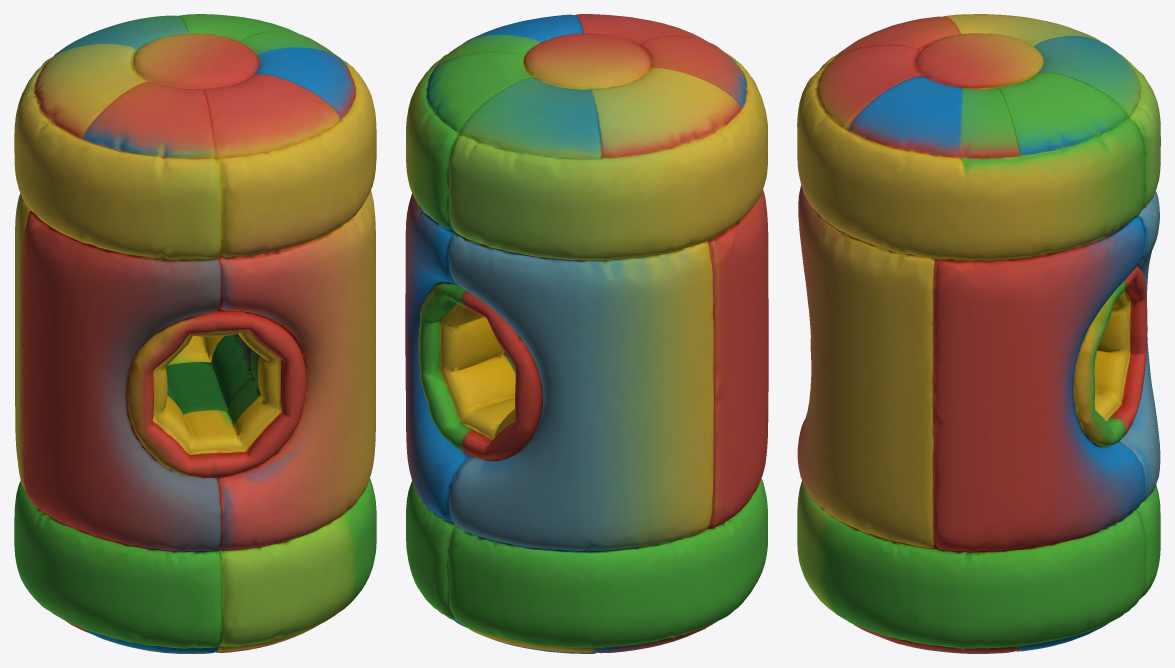
File: sweeper_hub.glb
3 views of the same model, side by side, from view 1: azimuth 30°, elevation 25°; view 2: azimuth 150°, elevation 25°; view 3: azimuth 270°, elevation 25° (orthographic).
Visible parts, largest first — view 1: tripo_node_de136848-9d4f-44f5-aa43-300d2a7b1019; view 2: tripo_node_de136848-9d4f-44f5-aa43-300d2a7b1019; view 3: tripo_node_de136848-9d4f-44f5-aa43-300d2a7b1019.
Boxes of the visible parts, bbox=[...] form: tripo_node_de136848-9d4f-44f5-aa43-300d2a7b1019: bbox=[14, 14, 376, 653]; tripo_node_de136848-9d4f-44f5-aa43-300d2a7b1019: bbox=[405, 14, 768, 653]; tripo_node_de136848-9d4f-44f5-aa43-300d2a7b1019: bbox=[797, 14, 1160, 653].
Bounding box in the file's own units: 0.3539 × 0.6 × 0.3534.
Materials: 1 (1 with a texture image).
